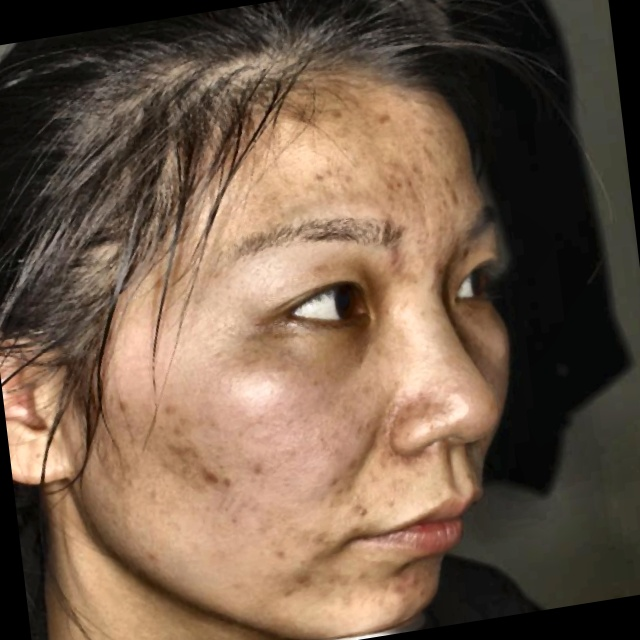comedone: (382, 569, 428, 606), (382, 241, 415, 278), (196, 463, 228, 490)
